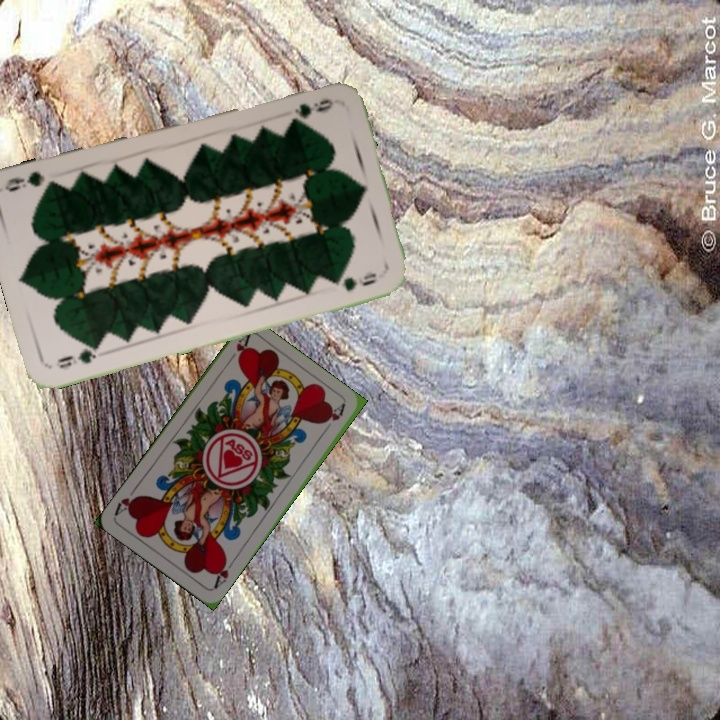G9: (53, 340, 104, 371), (290, 94, 336, 120)
HA: (223, 331, 252, 367), (209, 554, 237, 591)
